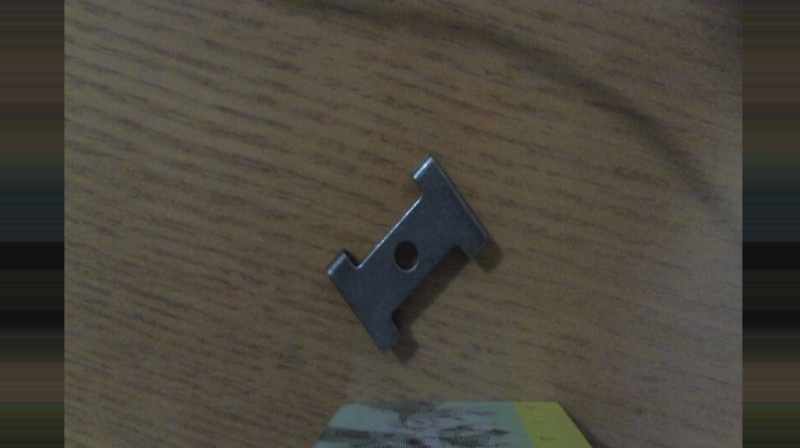O002: (322, 150, 494, 361)
